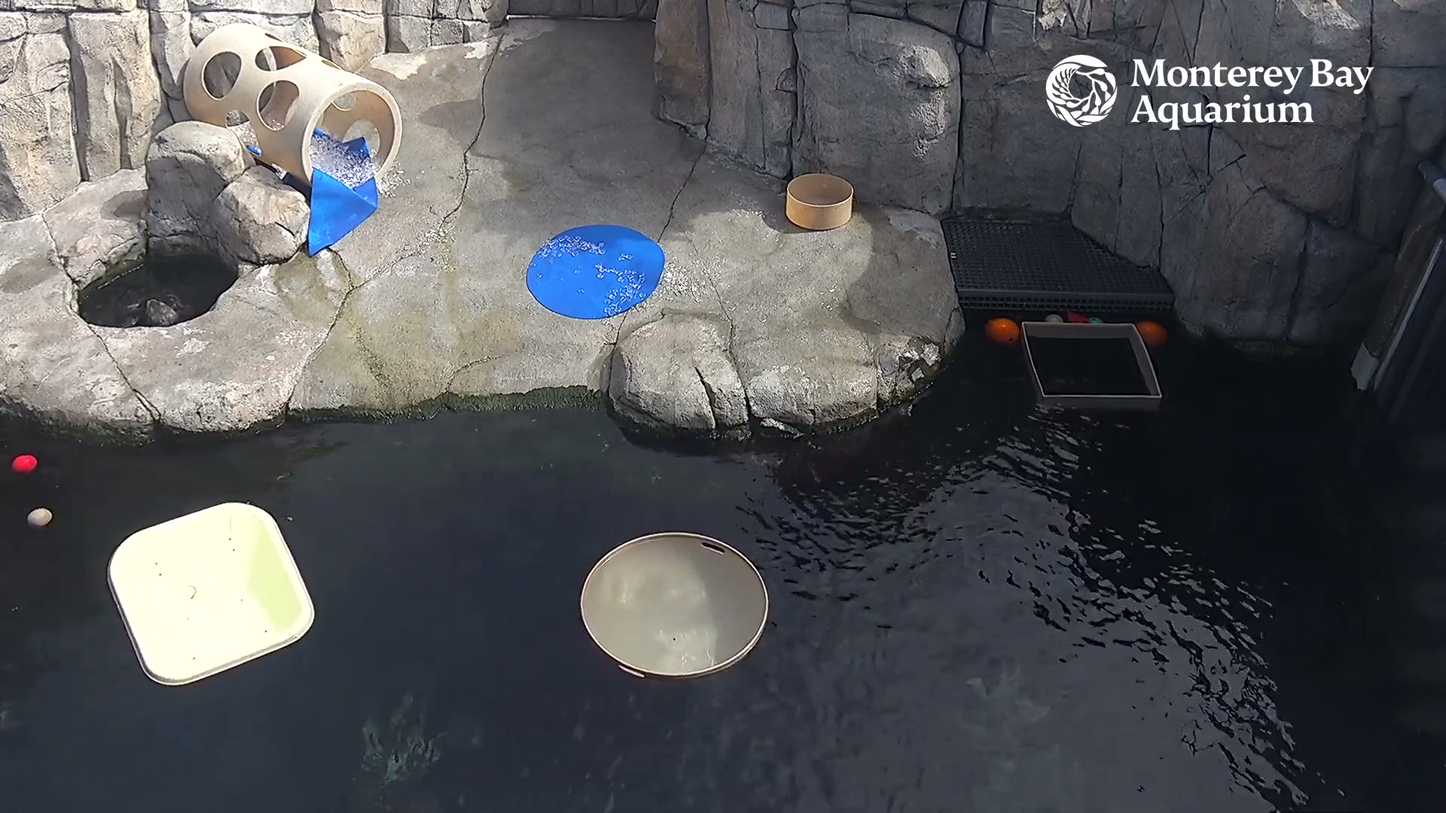Southern Sea Otter: (133, 280, 189, 332)
